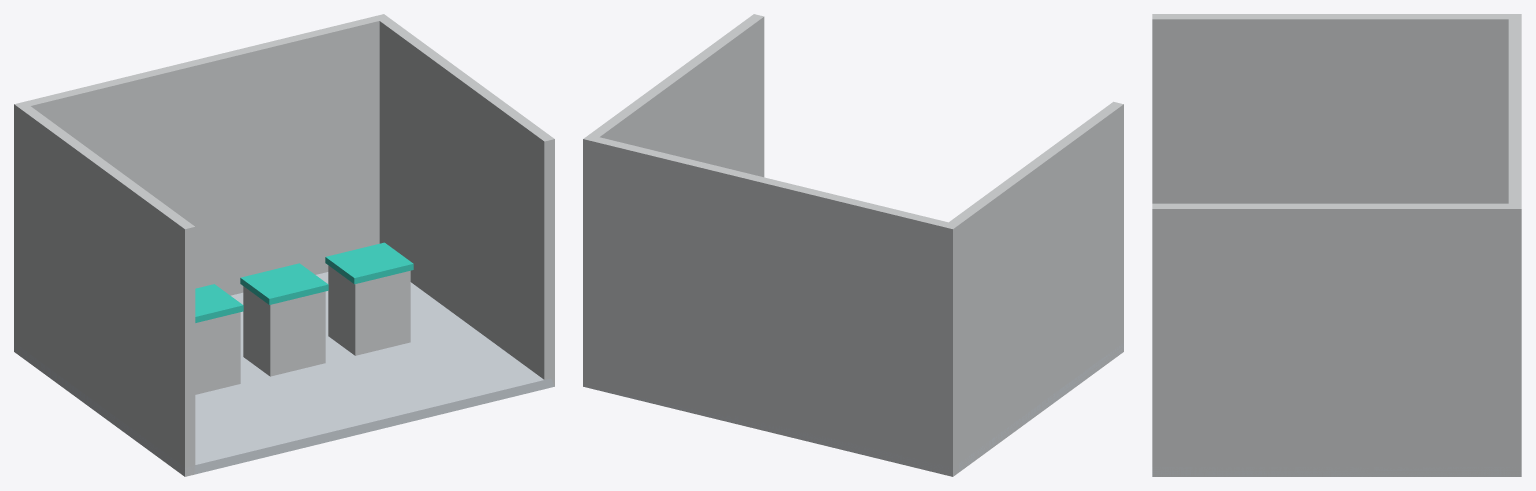
3 renders of one model, left to right at view 1: azimuth 30°, elevation 25°; view 2: azimuth 150°, elevation 25°; view 3: azimuth 270°, elevation 25°, orthographic. The views are drawn at different scales.
Parts seen in each view (by area): view 1: Exhibition Booth Concept; view 2: Exhibition Booth Concept; view 3: Exhibition Booth Concept.
Part boxes in pixels (<box>): Exhibition Booth Concept: <box>14,14,554,476</box>; Exhibition Booth Concept: <box>583,14,1123,476</box>; Exhibition Booth Concept: <box>1152,14,1521,476</box>.
Bounding box in the file's own units: 5 × 3.2 × 4.
